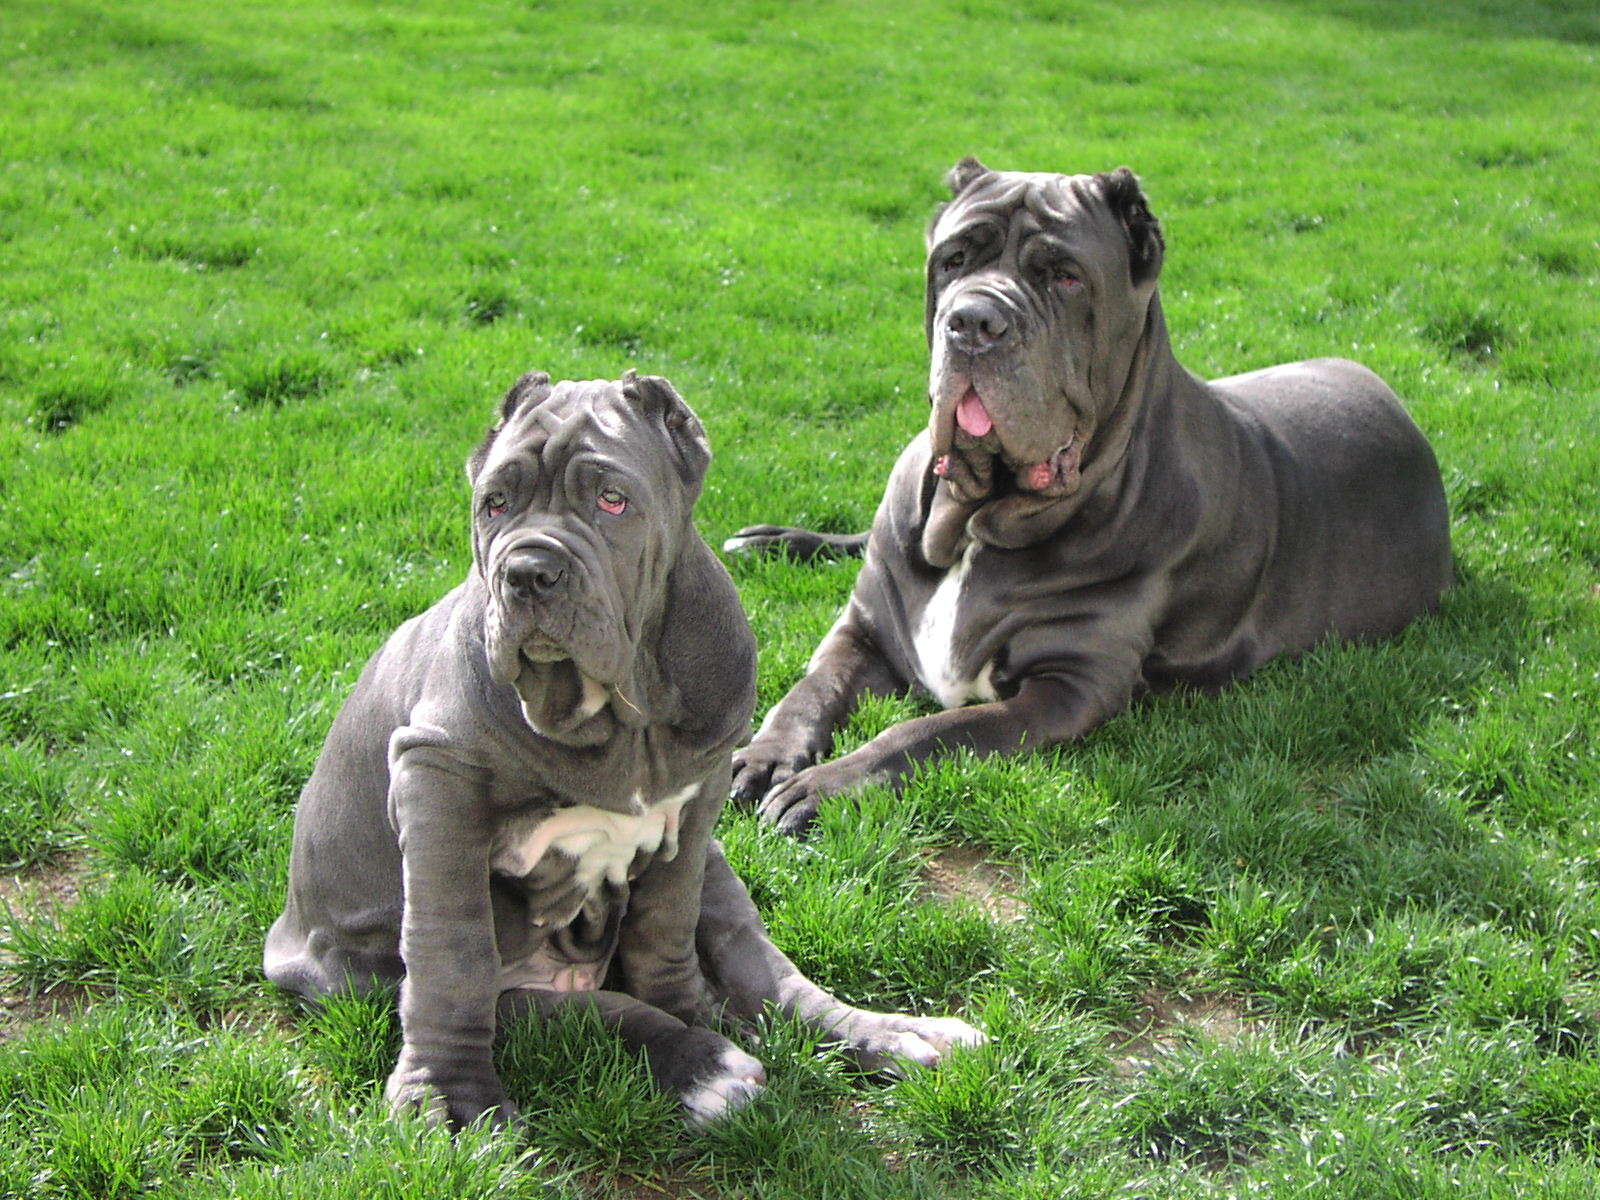neapolitan_mastiff: (258, 369, 985, 1134), (727, 156, 1456, 834)
